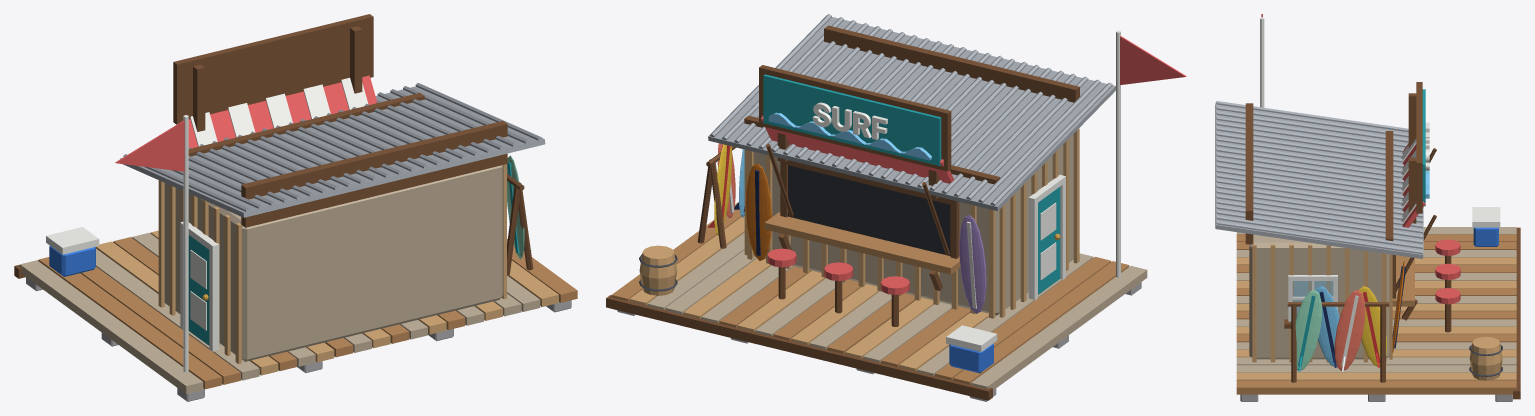
File: SurfShack.fbx
3 renders of one model, left to right at view 1: azimuth 30°, elevation 25°; view 2: azimuth 150°, elevation 25°; view 3: azimuth 270°, elevation 25°, orthographic. The views are drawn at different scales.
Visible parts, largest first — view 1: SurfShack_Driftwood, SurfShack_WoodDark, SurfShack_Metal, SurfShack_WoodLight, SurfShack_Plank, SurfShack_White, SurfShack_Accent, SurfShack_Teal, SurfShack_Blue, SurfShack_Concrete, SurfShack_Mint; view 2: SurfShack_Metal, SurfShack_Driftwood, SurfShack_WoodDark, SurfShack_WoodLight, SurfShack_Plank, SurfShack_Charcoal, SurfShack_Teal, SurfShack_White, SurfShack_Accent, SurfShack_Lilac, SurfShack_Orange, SurfShack_SkyBlue (+2 smaller); view 3: SurfShack_Metal, SurfShack_Driftwood, SurfShack_WoodLight, SurfShack_Plank, SurfShack_WoodDark, SurfShack_White, SurfShack_Coral, SurfShack_Accent, SurfShack_Mint, SurfShack_SkyBlue, SurfShack_Yellow, SurfShack_Teal (+6 smaller).
Part boxes in pixels (<box>): SurfShack_Driftwood: <box>20,165,540,394</box>; SurfShack_WoodDark: <box>14,14,533,278</box>; SurfShack_Metal: <box>120,83,545,217</box>; SurfShack_WoodLight: <box>96,164,558,375</box>; SurfShack_Plank: <box>38,237,577,389</box>; SurfShack_White: <box>46,77,368,372</box>; SurfShack_Accent: <box>115,75,376,171</box>; SurfShack_Teal: <box>188,162,531,345</box>; SurfShack_Blue: <box>49,246,95,276</box>; SurfShack_Concrete: <box>26,277,571,401</box>; SurfShack_Mint: <box>507,155,524,259</box>; SurfShack_Metal: <box>708,14,1115,211</box>; SurfShack_Driftwood: <box>647,134,1147,390</box>; SurfShack_WoodDark: <box>606,25,1079,400</box>; SurfShack_WoodLight: <box>629,128,1079,371</box>; SurfShack_Plank: <box>611,202,1129,384</box>; SurfShack_Charcoal: <box>788,165,950,255</box>; SurfShack_Teal: <box>763,74,1060,294</box>; SurfShack_White: <box>729,30,1120,351</box>; SurfShack_Accent: <box>761,36,1186,294</box>; SurfShack_Lilac: <box>959,214,986,313</box>; SurfShack_Orange: <box>745,163,771,260</box>; SurfShack_SkyBlue: <box>739,112,931,217</box>; SurfShack_Metal: <box>1215,101,1423,258</box>; SurfShack_Driftwood: <box>1236,227,1516,372</box>; SurfShack_WoodLight: <box>1236,244,1516,380</box>; SurfShack_Plank: <box>1236,234,1516,394</box>; SurfShack_WoodDark: <box>1245,82,1520,399</box>; SurfShack_White: <box>1260,17,1500,371</box>; SurfShack_Coral: <box>1334,290,1365,370</box>; SurfShack_Accent: <box>1261,14,1460,304</box>; SurfShack_Mint: <box>1295,289,1321,370</box>; SurfShack_SkyBlue: <box>1316,171,1429,367</box>; SurfShack_Yellow: <box>1359,286,1386,367</box>; SurfShack_Teal: <box>1298,89,1425,371</box>.
Bounding box in the file's own units: 34.4 × 20 × 23.97.
